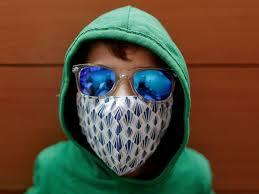cap: (43, 0, 201, 194)
mask: (75, 87, 173, 178)
sunglasses: (74, 59, 182, 107)
